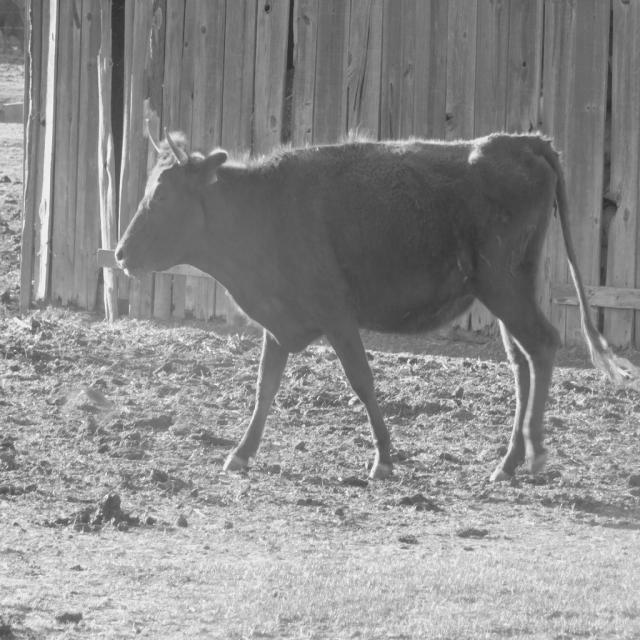cow: (115, 132, 628, 480)
